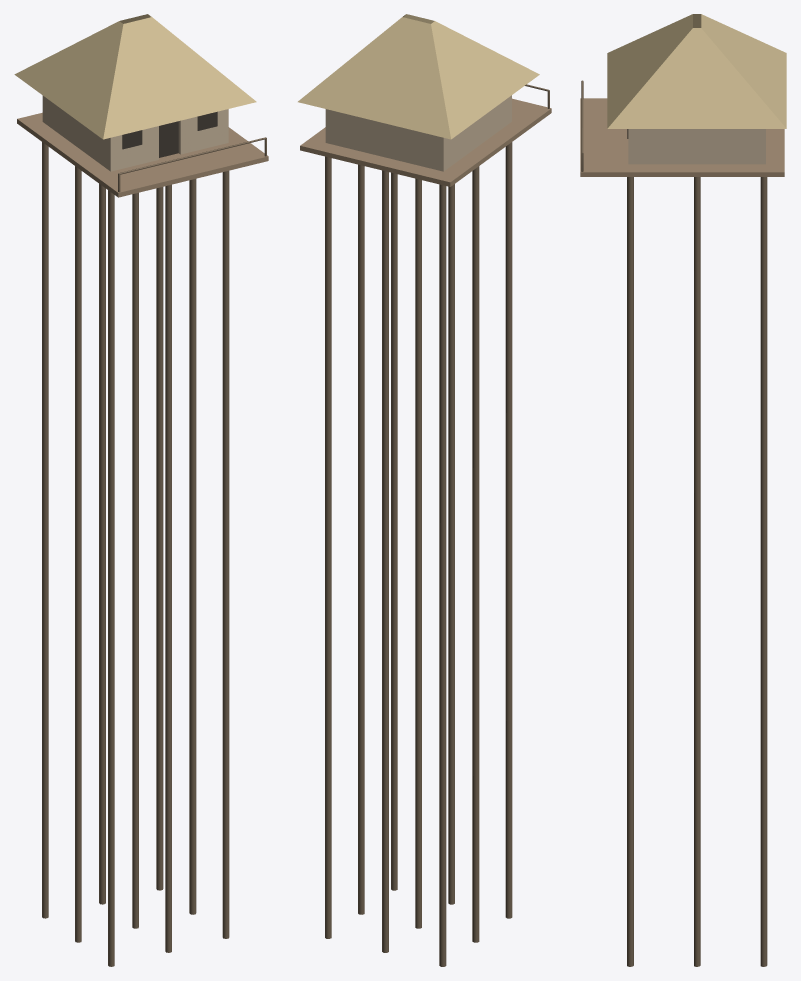
The model's file is hut.glb.
The picture shows the model from 3 angles, left to right: view 1: azimuth 30°, elevation 25°; view 2: azimuth 150°, elevation 25°; view 3: azimuth 270°, elevation 25°; orthographic projection.
Visible parts, largest first — view 1: hut; view 2: hut; view 3: hut.
Part boxes in pixels (bbox=[...]): hut: bbox=[14, 14, 268, 966]; hut: bbox=[298, 14, 551, 966]; hut: bbox=[580, 14, 786, 966].
Bounding box in the file's own units: 8.6 × 48.5 × 9.9.
